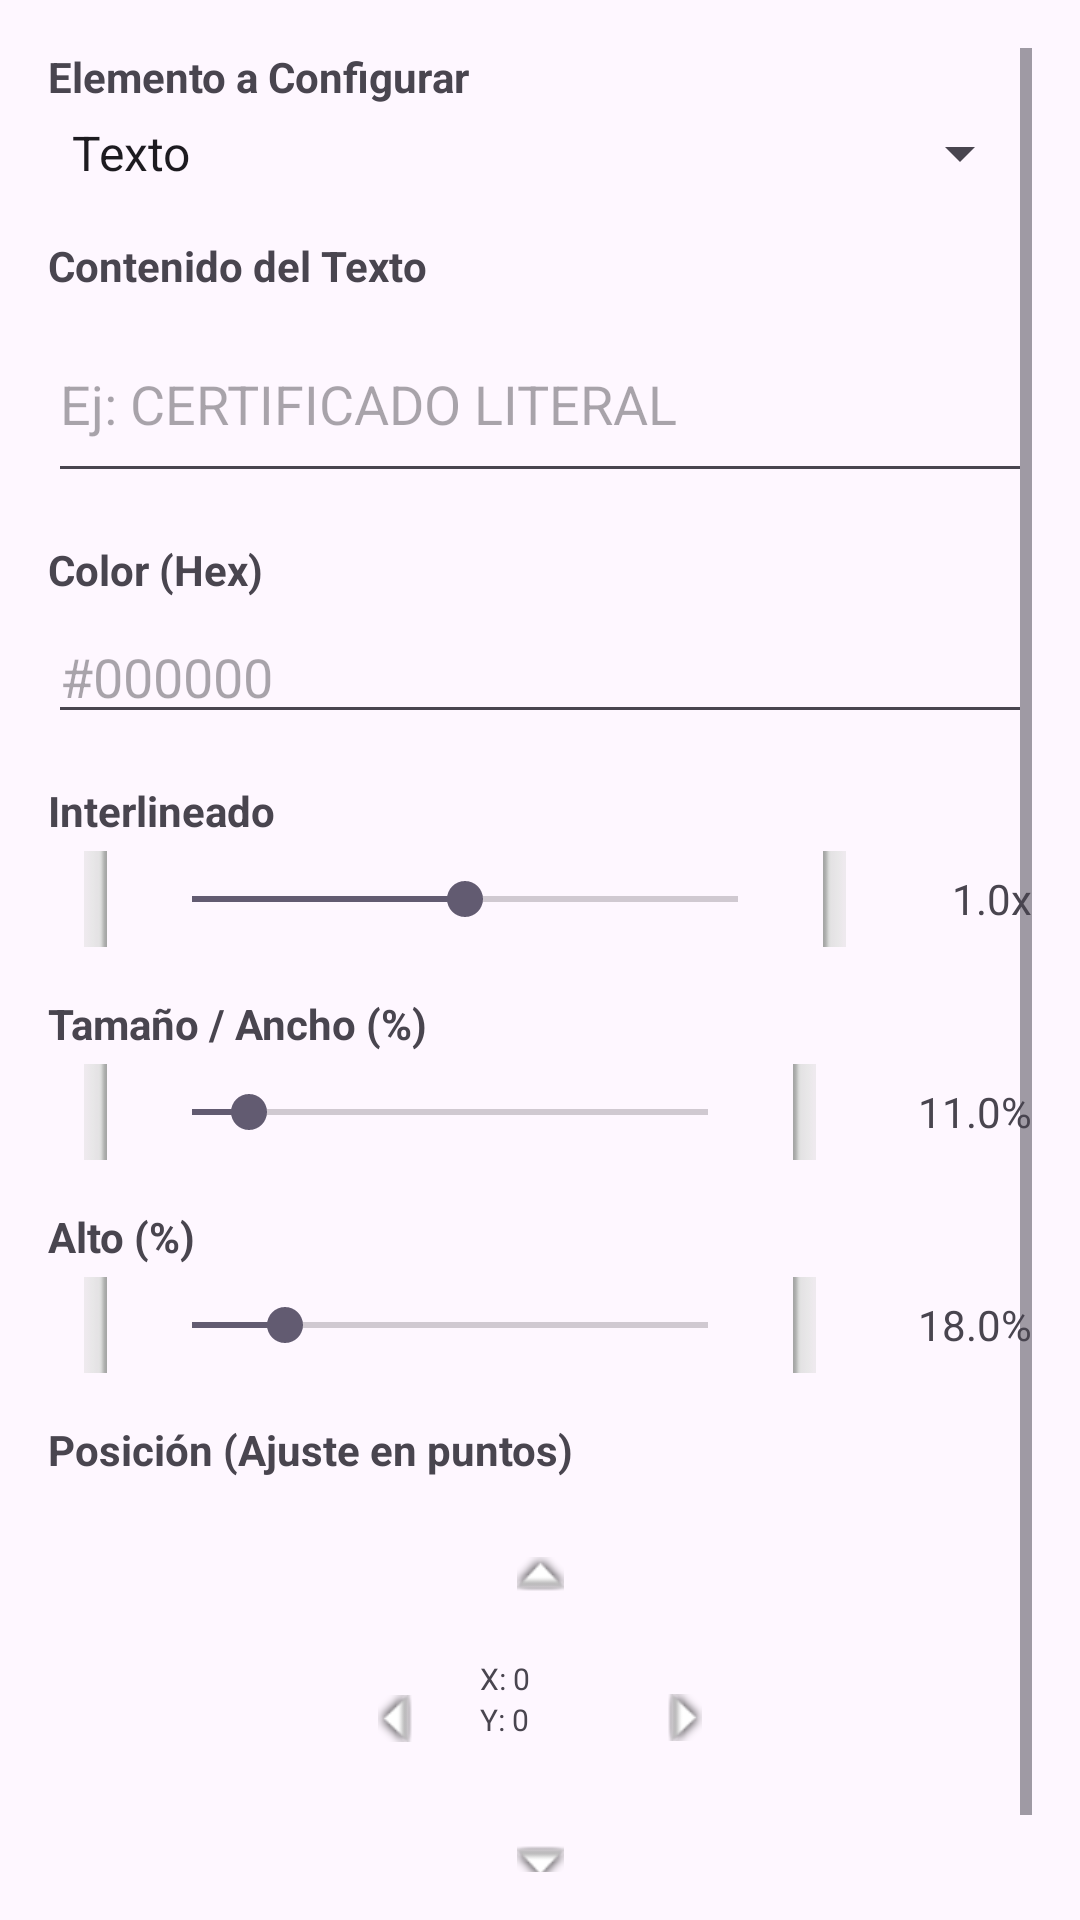

Screen size 1080×1920. Icon name, then its center in pixels as point (x, y):
arrow up float: point (540, 1574)
